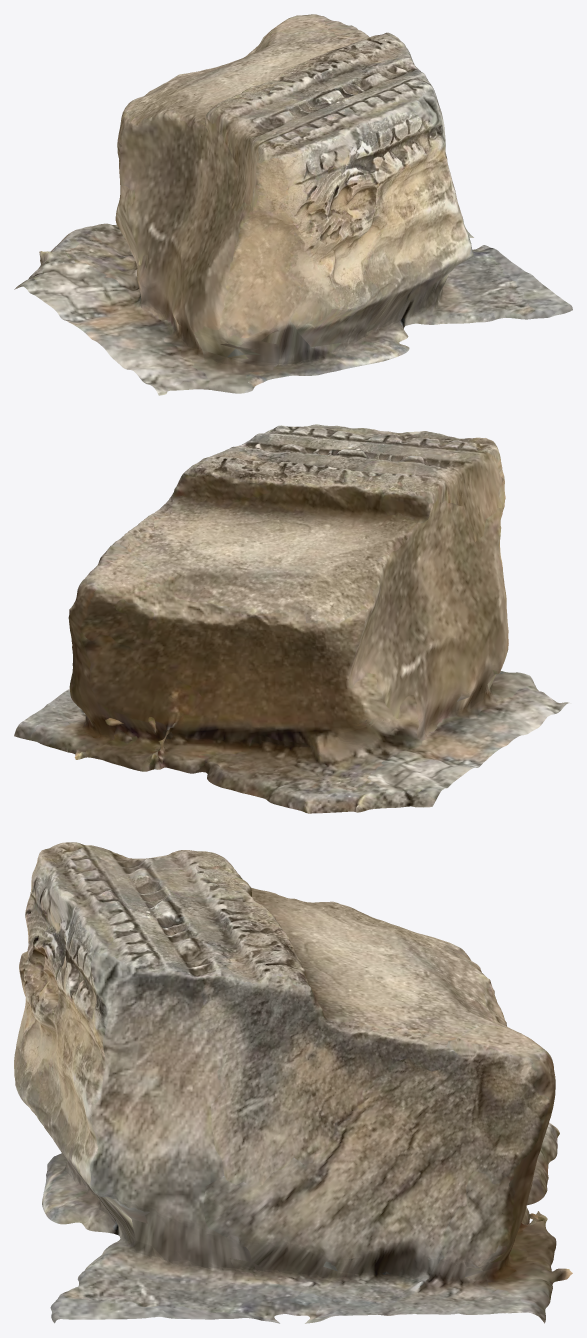
Rendered from architectural-fragment-with-relief-decoration.glb.
3 views of the same model, one above another, from view 1: azimuth 30°, elevation 25°; view 2: azimuth 150°, elevation 25°; view 3: azimuth 270°, elevation 25° (orthographic). The views are drawn at different scales.
Visible parts, largest first — view 1: Object_2; view 2: Object_2; view 3: Object_2.
Boxes of the visible parts, x1,y1,x2,y2 form: Object_2: [14, 14, 572, 395]; Object_2: [14, 424, 570, 813]; Object_2: [14, 842, 572, 1323].
Bounding box in the file's own units: 0.7558 × 0.4239 × 0.7267.
1 material, 1 textured.
